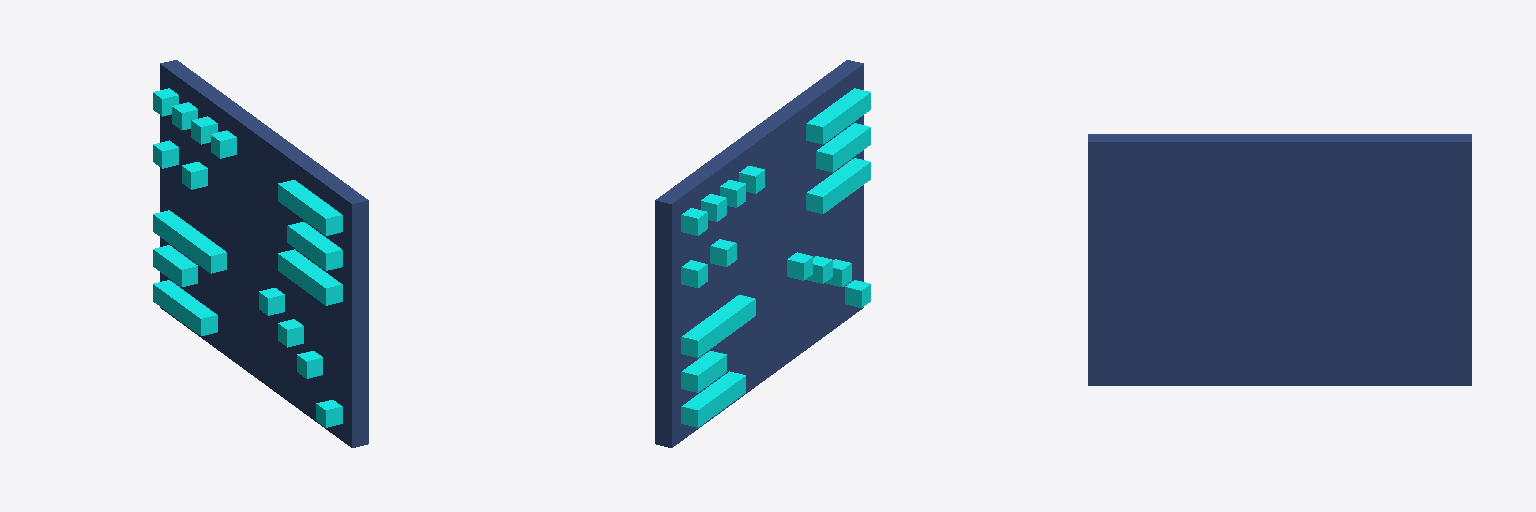
3 renders of one model, left to right at view 1: azimuth 30°, elevation 25°; view 2: azimuth 150°, elevation 25°; view 3: azimuth 270°, elevation 25°, orthographic.
Visible parts, largest first — view 1: object 1; view 2: object 1; view 3: object 1.
Boxes of the visible parts, box(x1,y1,x2,y2) form: object 1: box(153, 60, 368, 447); object 1: box(655, 60, 870, 447); object 1: box(1088, 134, 1471, 385).
Bounding box in the file's own units: 0.2 × 1.4 × 2.
1 materials, 1 textured.